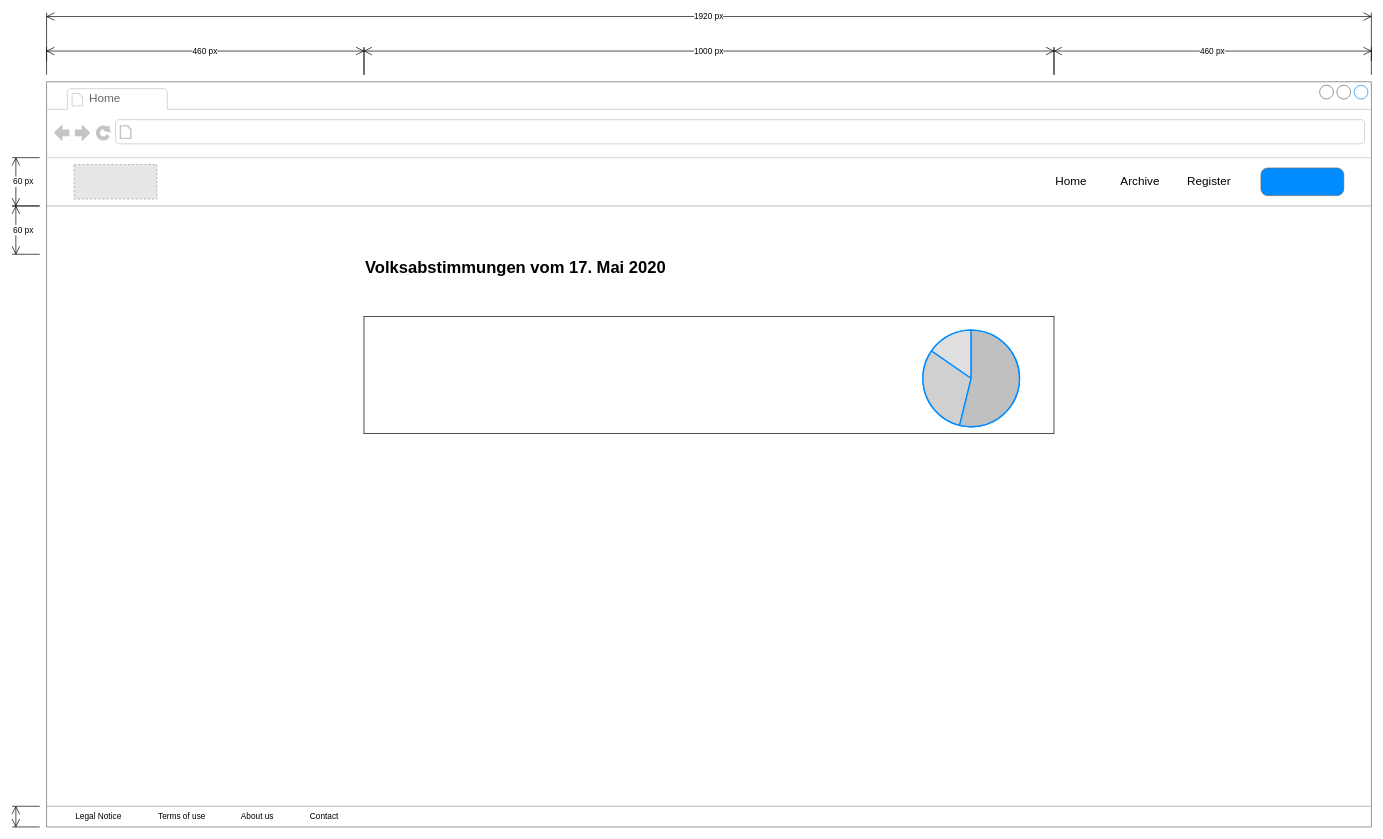
This 1383x839 diagram has some shape labels left out. Grey dashed boxes stand in for pictures. The shapes that lost their labels are listed below. From the top down, each one's centre as x and y in pixels, then its label:
At pixel 222 131: "https://www.apfelschuss.io".
At pixel 1302 181: "Login".
At pixel 25 816: "30 px".
